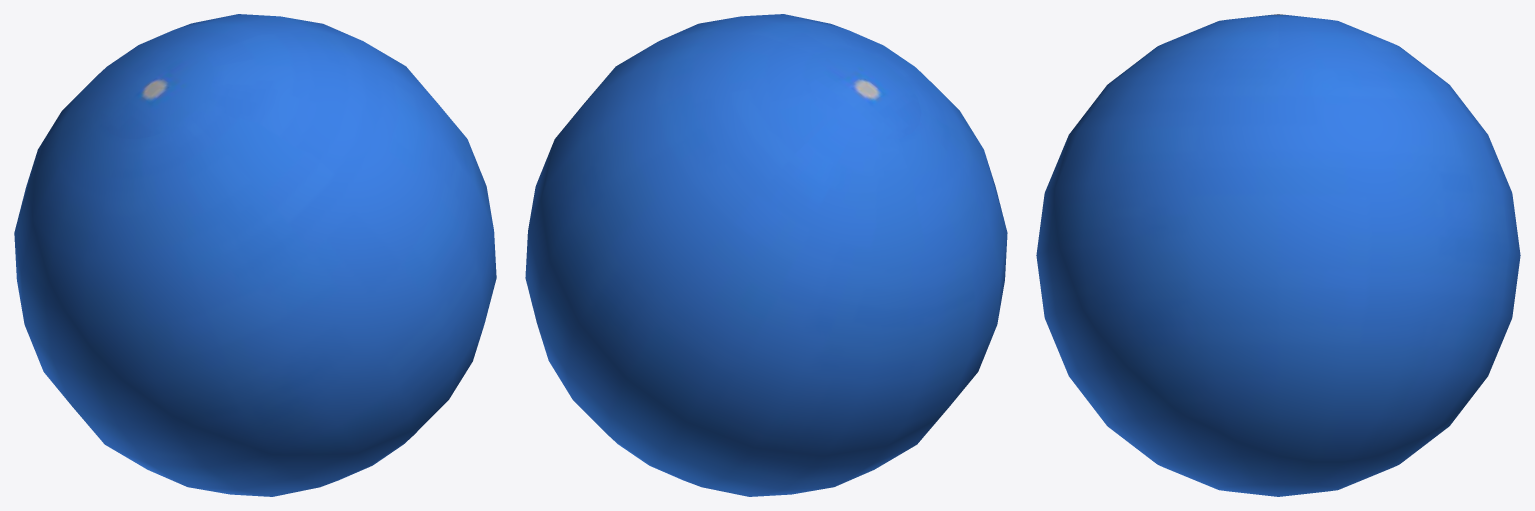
The model's file is exercise-ball.glb.
3 views of the same model, side by side, from view 1: azimuth 30°, elevation 25°; view 2: azimuth 150°, elevation 25°; view 3: azimuth 270°, elevation 25° (orthographic).
Bounding box in the file's own units: 7.82 × 7.82 × 7.82.
Materials: 1 (1 with a texture image).
